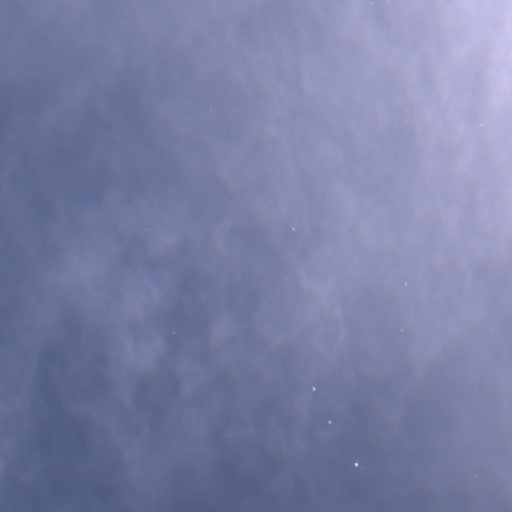Iceberg: (312, 386, 315, 390), (354, 462, 357, 466), (328, 420, 330, 424), (292, 227, 294, 230), (480, 123, 482, 125), (405, 283, 406, 285), (172, 332, 174, 333), (401, 329, 402, 330)
